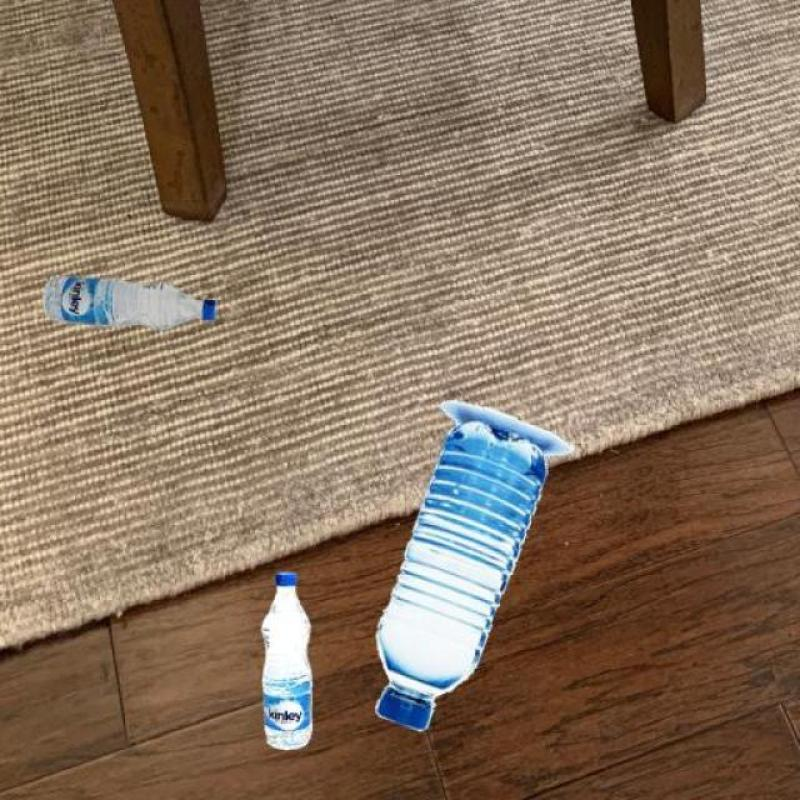botella: (375, 419, 549, 731), (45, 276, 219, 334), (260, 570, 314, 750)
